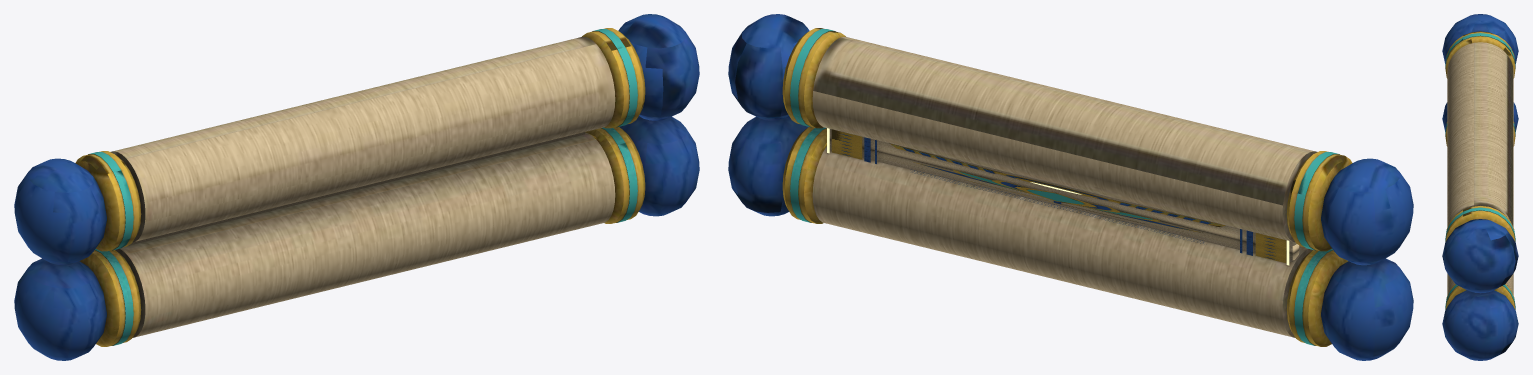
3 views of the same model, side by side, from view 1: azimuth 30°, elevation 25°; view 2: azimuth 150°, elevation 25°; view 3: azimuth 270°, elevation 25° (orthographic). The views are drawn at different scales.
Parts seen in each view (by area): view 1: Dusty_woven_papyrus, Deep_lapis_inlay, Hammered_polished_gold, Turquoise_enamel; view 2: Dusty_woven_papyrus, Deep_lapis_inlay, Hammered_polished_gold, Turquoise_enamel; view 3: Dusty_woven_papyrus, Deep_lapis_inlay, Hammered_polished_gold, Turquoise_enamel.
Boxes of the visible parts, x1,y1,x2,y2 form: Dusty_woven_papyrus: (110,36,615,337); Deep_lapis_inlay: (14,14,699,360); Hammered_polished_gold: (75,28,645,346); Turquoise_enamel: (88,29,637,345); Dusty_woven_papyrus: (812,36,1317,337); Deep_lapis_inlay: (728,14,1413,360); Hammered_polished_gold: (782,28,1352,346); Turquoise_enamel: (790,29,1339,345); Dusty_woven_papyrus: (1447,42,1513,294); Deep_lapis_inlay: (1442,14,1518,360); Hammered_polished_gold: (1445,31,1515,309); Turquoise_enamel: (1445,33,1515,309).
Size of the model in its own units: 1.27 by 0.35 by 0.1768.
Materials: 5 (4 with a texture image).
